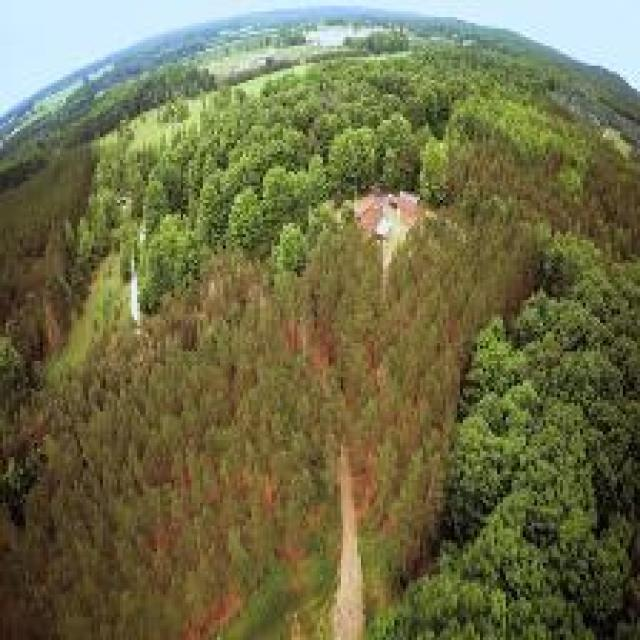other: (333, 433, 378, 622), (348, 177, 427, 267)
